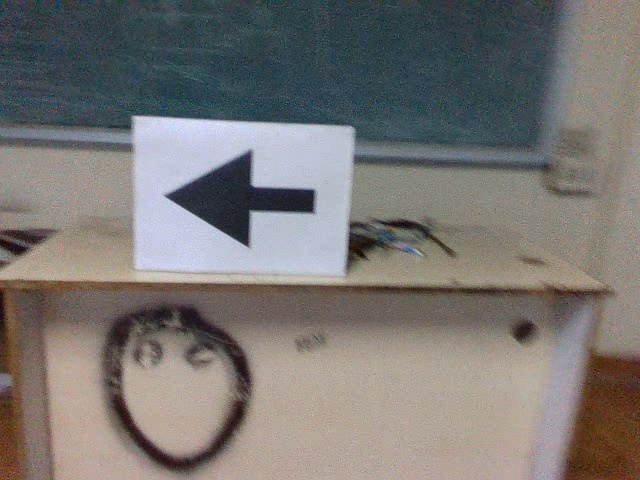Left: (159, 146, 322, 259)
